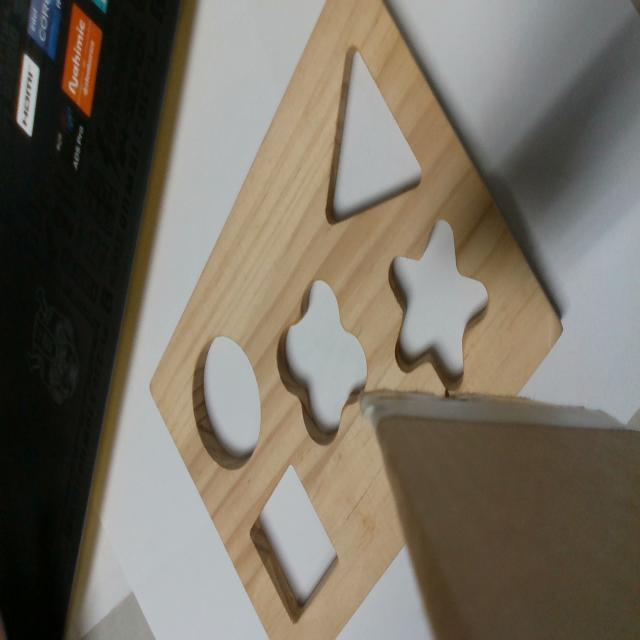circle: (193, 336, 260, 467)
flower: (275, 279, 370, 446)
square: (250, 460, 341, 624)
star: (389, 222, 493, 392)
triangle: (325, 44, 426, 226)
